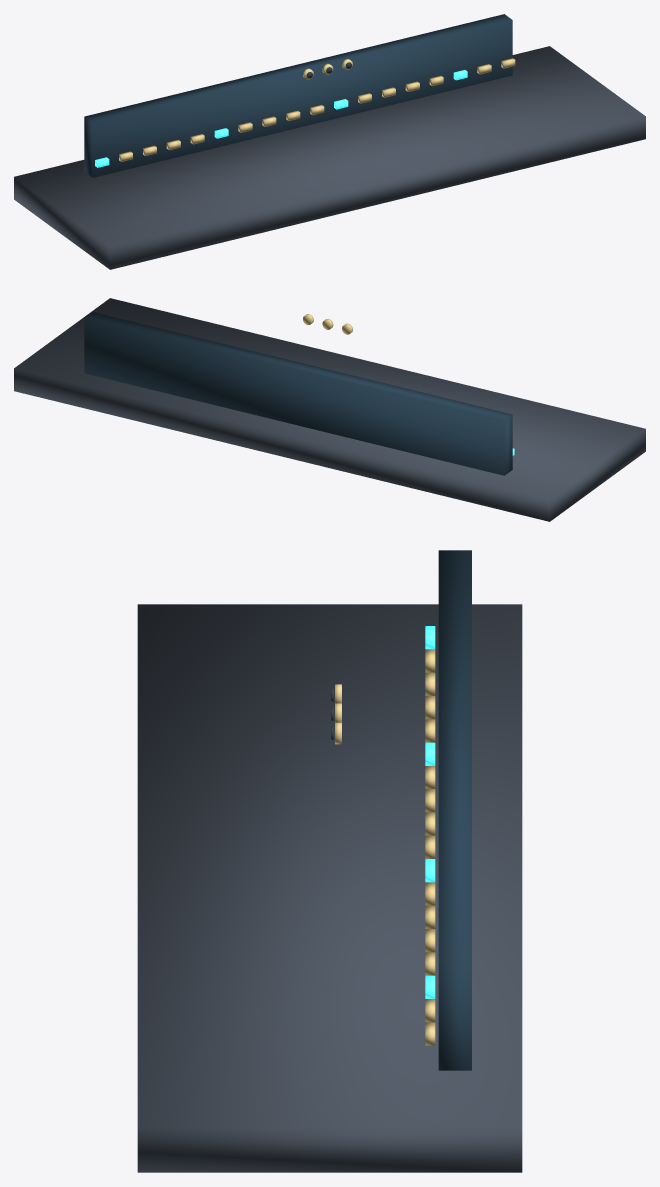
File: 14_L93_ScienceMissionControlDesk.fbx
The picture shows the model from 3 angles, top to bottom: view 1: azimuth 30°, elevation 25°; view 2: azimuth 150°, elevation 25°; view 3: azimuth 270°, elevation 25°; orthographic projection. The views are drawn at different scales.
Parts seen in each view (by area): view 1: L92_ScienceMissionControlDesk_Part_0000, L92_ScienceMissionControlDesk_Part_0001, L92_ScienceMissionControlDesk_Part_0003, L92_ScienceMissionControlDesk_Part_0002; view 2: L92_ScienceMissionControlDesk_Part_0000, L92_ScienceMissionControlDesk_Part_0001; view 3: L92_ScienceMissionControlDesk_Part_0000, L92_ScienceMissionControlDesk_Part_0001, L92_ScienceMissionControlDesk_Part_0003, L92_ScienceMissionControlDesk_Part_0002.
Boxes of the visible parts, x1,y1,x2,y2 form: L92_ScienceMissionControlDesk_Part_0000: (14, 46, 645, 269); L92_ScienceMissionControlDesk_Part_0001: (84, 14, 512, 177); L92_ScienceMissionControlDesk_Part_0003: (119, 58, 515, 161); L92_ScienceMissionControlDesk_Part_0002: (95, 70, 467, 167); L92_ScienceMissionControlDesk_Part_0000: (14, 298, 645, 521); L92_ScienceMissionControlDesk_Part_0001: (84, 312, 512, 475); L92_ScienceMissionControlDesk_Part_0000: (137, 604, 522, 1172); L92_ScienceMissionControlDesk_Part_0001: (438, 550, 471, 1070); L92_ScienceMissionControlDesk_Part_0003: (425, 649, 435, 1045); L92_ScienceMissionControlDesk_Part_0002: (425, 626, 435, 998).
Bounding box in the file's own units: 7.4 × 1.44 × 2.3.
